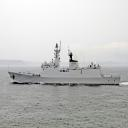Fragata: (9, 42, 122, 86)
